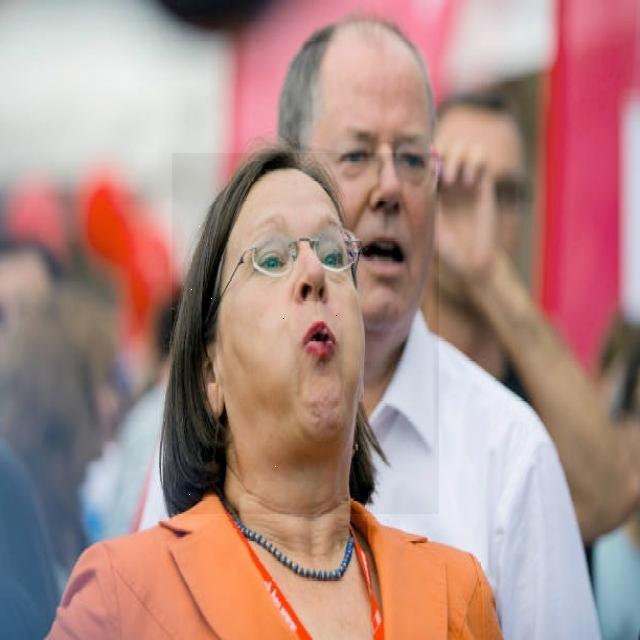Spitting: (172, 153, 439, 514)
